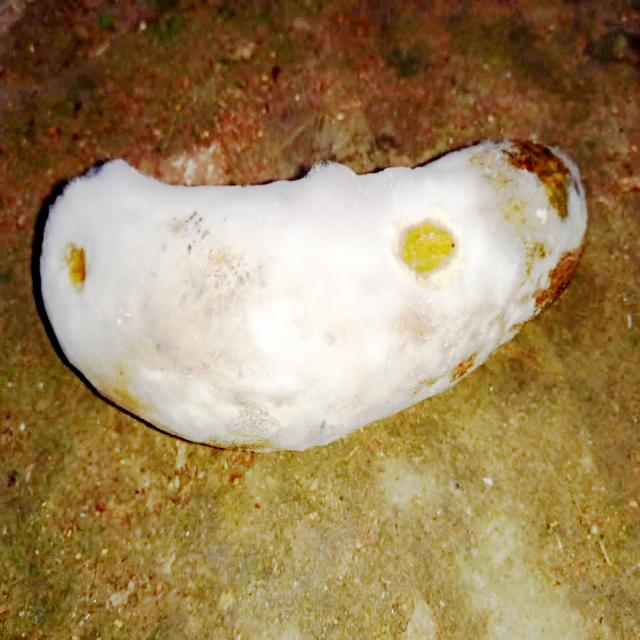Pythium-Fruit-Rot: (39, 134, 591, 449)
